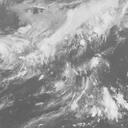cyclone: (41, 40, 105, 104)
